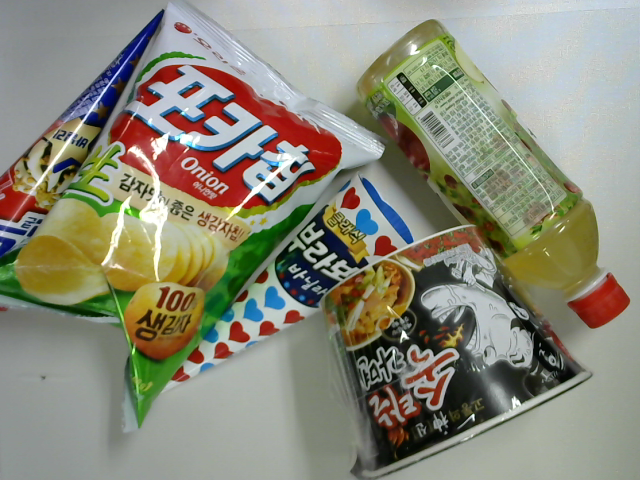Bravo_Cone_(Banila)_CVS: (153, 174, 416, 396)
HeJangsock: (316, 219, 595, 480)
Morning_Apple_500ml: (356, 18, 632, 331)
Pocachip_Onion: (1, 1, 392, 440)
World_Cone_Banila: (1, 6, 163, 274)
